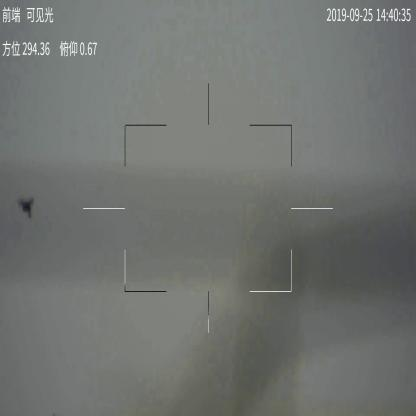uav: (16, 196, 37, 220)
